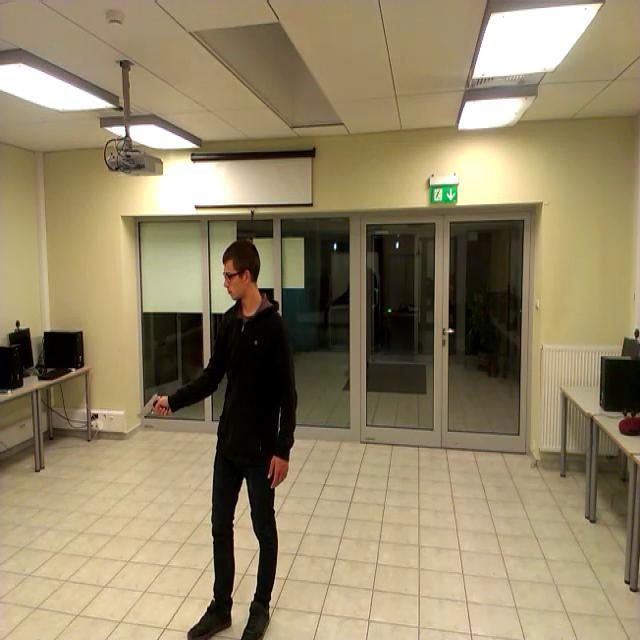Gun: (136, 392, 168, 417)
